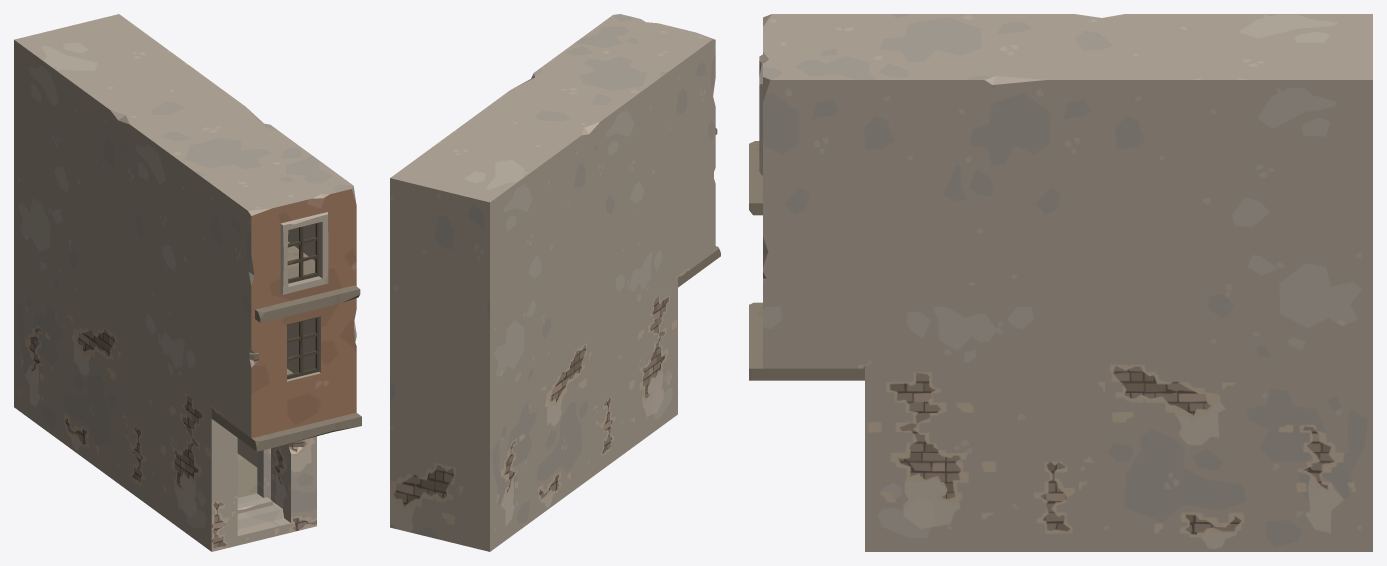
The model's file is SM_Bld_Shop_03.glb.
3 renders of one model, left to right at view 1: azimuth 30°, elevation 25°; view 2: azimuth 150°, elevation 25°; view 3: azimuth 270°, elevation 25°, orthographic. The views are drawn at different scales.
Visible parts, largest first — view 1: SM_Bld_Shop_03; view 2: SM_Bld_Shop_03; view 3: SM_Bld_Shop_03.
Boxes of the visible parts, box(x1,y1,x2,y2) form: SM_Bld_Shop_03: box(14, 14, 361, 551); SM_Bld_Shop_03: box(390, 14, 720, 551); SM_Bld_Shop_03: box(749, 14, 1372, 551).
Bounding box in the file's own units: 3.07 × 10.27 × 12.3.
1 material, 1 textured.
